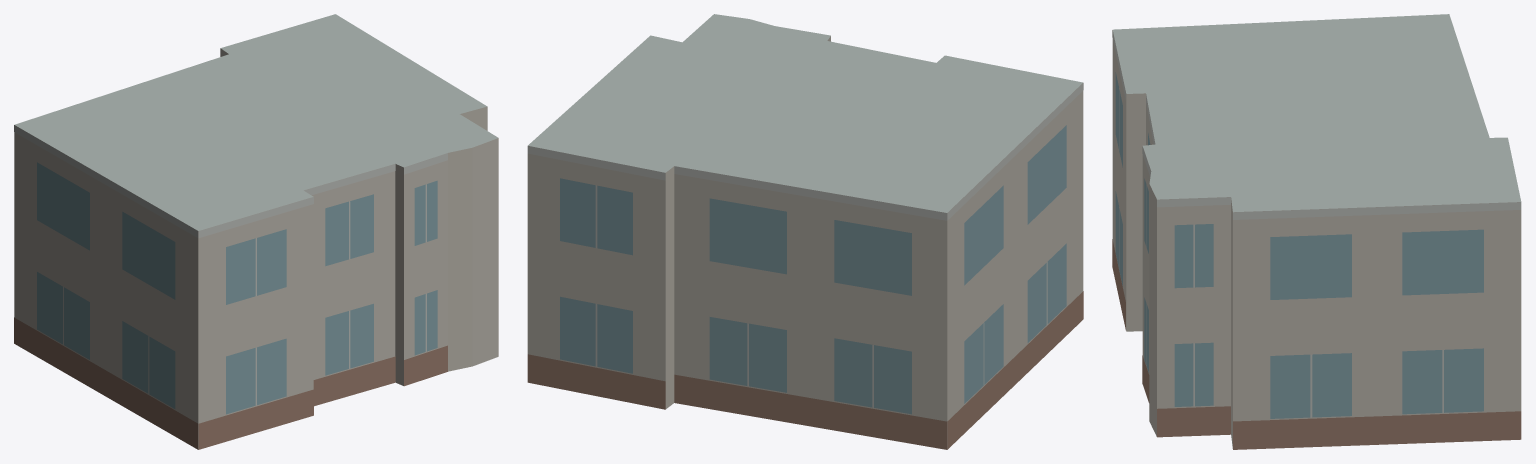
The model's file is survey-upis-32663601.glb.
3 renders of one model, left to right at view 1: azimuth 30°, elevation 25°; view 2: azimuth 150°, elevation 25°; view 3: azimuth 270°, elevation 25°, orthographic. The views are drawn at different scales.
Visible parts, largest first — view 1: survey-upis-32663601.tmp; view 2: survey-upis-32663601.tmp; view 3: survey-upis-32663601.tmp.
Part boxes in pixels (<box>): survey-upis-32663601.tmp: <box>14,14,498,449</box>; survey-upis-32663601.tmp: <box>527,14,1083,449</box>; survey-upis-32663601.tmp: <box>1112,14,1521,449</box>.
Bounding box in the file's own units: 13.15 × 7.35 × 11.47.
